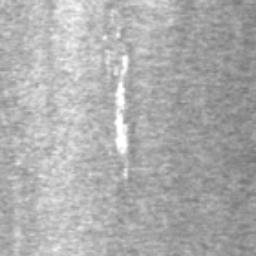White rust: (114, 55, 129, 154)
